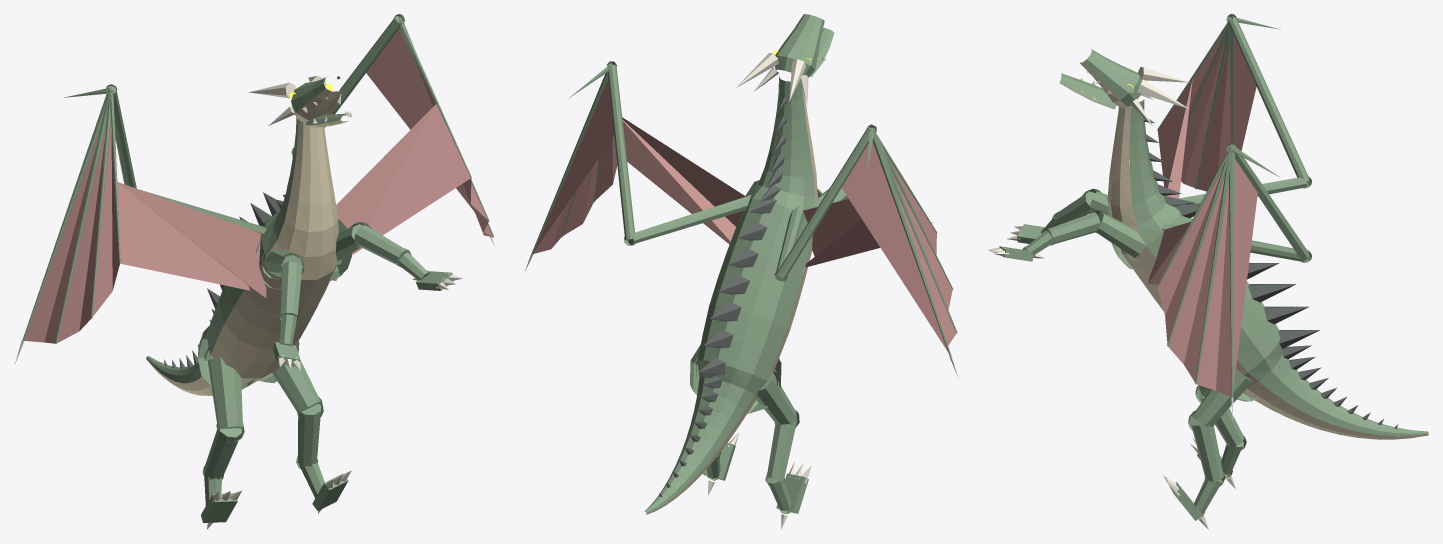
The model's file is dragons-and-wyverns-western-dragon-rearing-7028e616__36696.glb.
3 views of the same model, side by side, from view 1: azimuth 30°, elevation 25°; view 2: azimuth 150°, elevation 25°; view 3: azimuth 270°, elevation 25° (orthographic). The views are drawn at different scales.
Visible parts, largest first — view 1: western-dragon-rearing; view 2: western-dragon-rearing; view 3: western-dragon-rearing.
Part boxes in pixels (left/top/right/bottom): western-dragon-rearing: left=15, top=14, right=494, bottom=529; western-dragon-rearing: left=525, top=14, right=958, bottom=529; western-dragon-rearing: left=987, top=14, right=1428, bottom=529.
Size of the model in its own units: 5.99 by 5.97 by 5.19.
